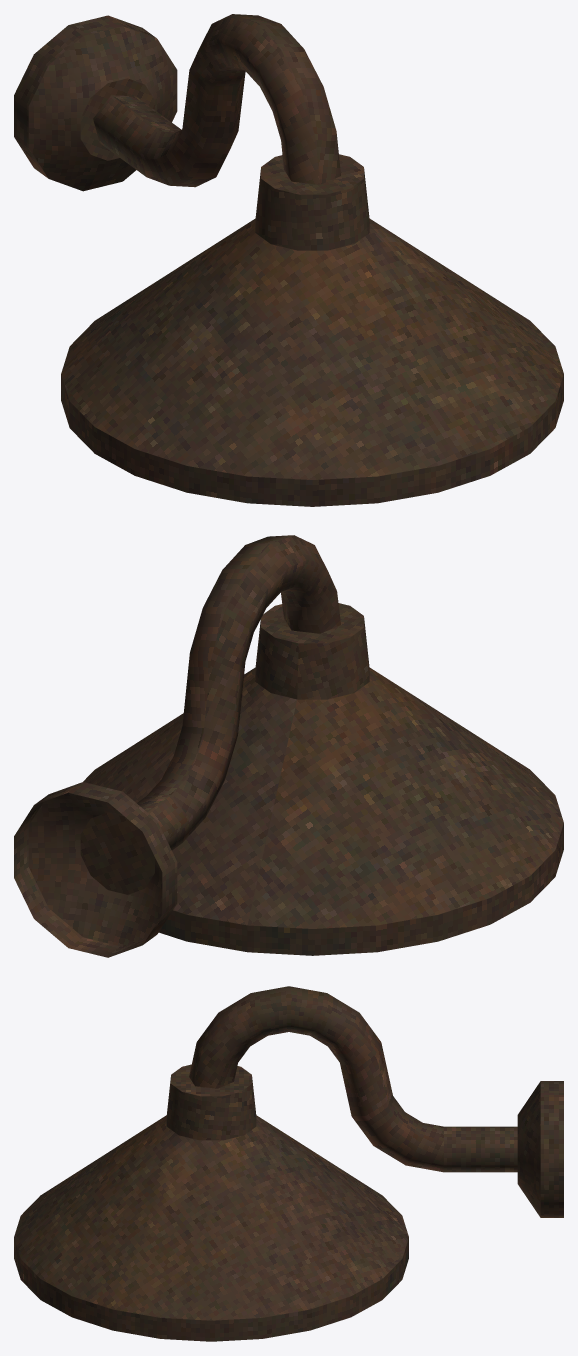
File: lamp_mx_3_on.glb
3 renders of one model, top to bottom at view 1: azimuth 30°, elevation 25°; view 2: azimuth 150°, elevation 25°; view 3: azimuth 270°, elevation 25°, orthographic. The views are drawn at different scales.
Visible parts, largest first — view 1: lamp_mx_3_on; view 2: lamp_mx_3_on; view 3: lamp_mx_3_on.
Part boxes in pixels (x1,y1,x2,y2): lamp_mx_3_on: (14, 14, 563, 506); lamp_mx_3_on: (14, 535, 563, 957); lamp_mx_3_on: (14, 986, 563, 1341).
Bounding box in the file's own units: 0.51 × 0.418 × 0.71.
2 materials, 2 textured.
